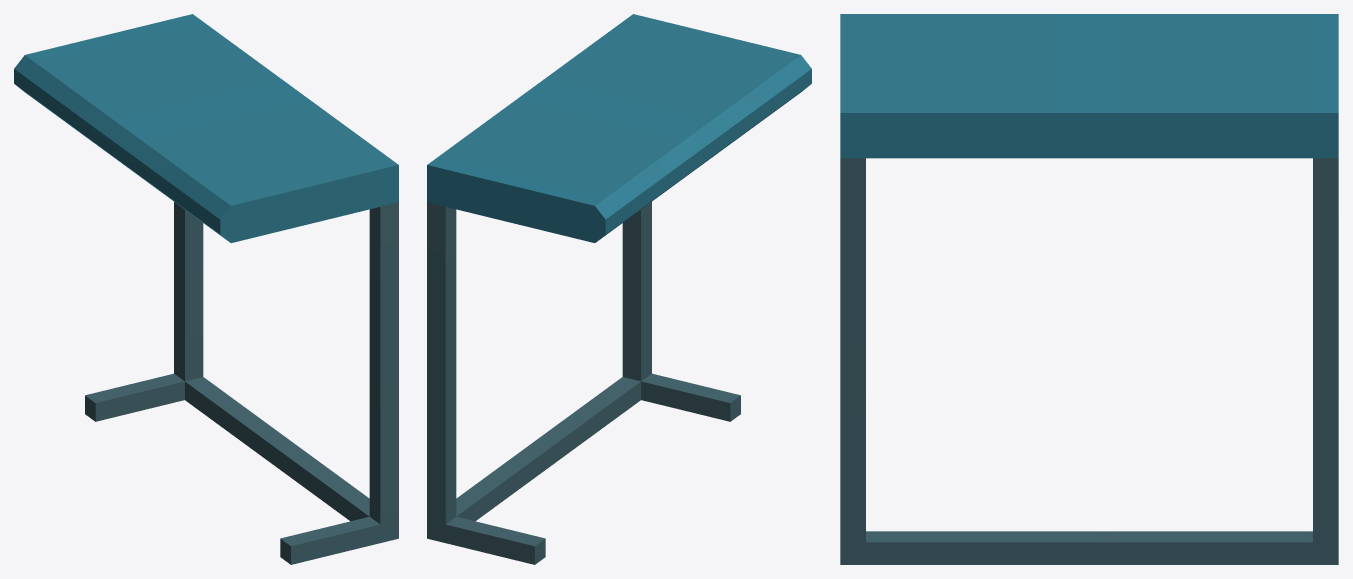
File: cafe_high_table.glb
3 views of the same model, side by side, from view 1: azimuth 30°, elevation 25°; view 2: azimuth 150°, elevation 25°; view 3: azimuth 270°, elevation 25° (orthographic). The views are drawn at different scales.
Visible parts, largest first — view 1: TableWindow.012_Material_0; view 2: TableWindow.012_Material_0; view 3: TableWindow.012_Material_0.
Part boxes in pixels (x1=…): TableWindow.012_Material_0: x1=14, y1=14, x2=398, y2=564; TableWindow.012_Material_0: x1=427, y1=14, x2=811, y2=564; TableWindow.012_Material_0: x1=840, y1=14, x2=1338, y2=564.
Size of the model in its own units: 50 by 100 by 100.
1 material, 1 textured.
